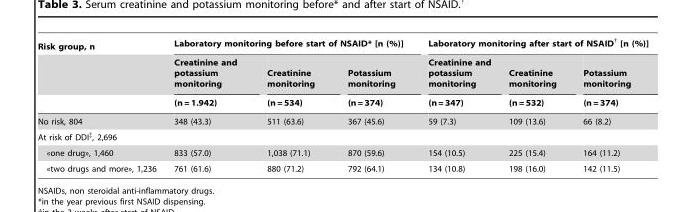table: (37, 36, 647, 172)
table column: (37, 36, 164, 172), (164, 36, 251, 172), (330, 36, 415, 172), (415, 36, 499, 172), (251, 36, 330, 172), (569, 36, 647, 172), (499, 36, 569, 172)
table column header: (37, 36, 647, 111)
table projected row header: (37, 128, 647, 144)
table row: (37, 54, 647, 92), (37, 92, 647, 111), (37, 36, 647, 54), (37, 111, 647, 128), (37, 128, 647, 144), (37, 144, 647, 160), (37, 160, 647, 172)
table spanning cell: (37, 36, 164, 111), (164, 54, 251, 111), (330, 54, 415, 111), (415, 54, 499, 111), (164, 36, 415, 54), (251, 54, 330, 111), (569, 54, 647, 111), (415, 36, 647, 54), (499, 54, 569, 111)
